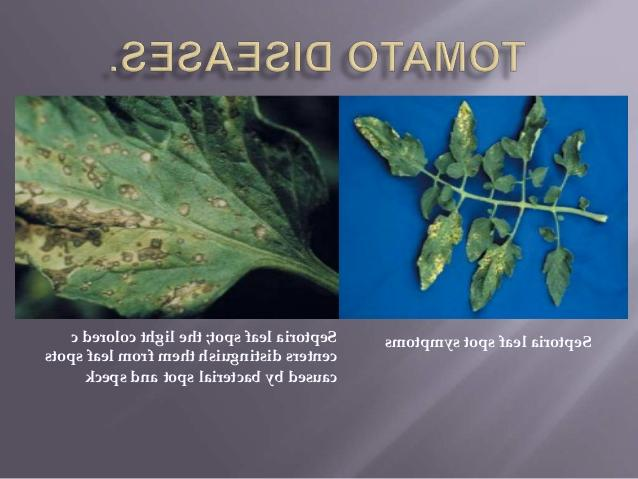Tomato Septoria leaf spot: (19, 102, 325, 315), (352, 108, 430, 189), (448, 239, 524, 313), (413, 207, 471, 290), (442, 99, 486, 188)
